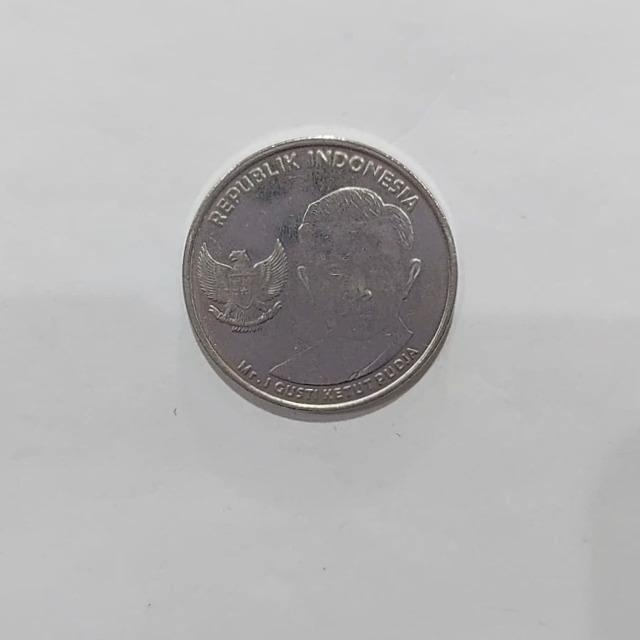Rp100: (180, 132, 459, 421)
